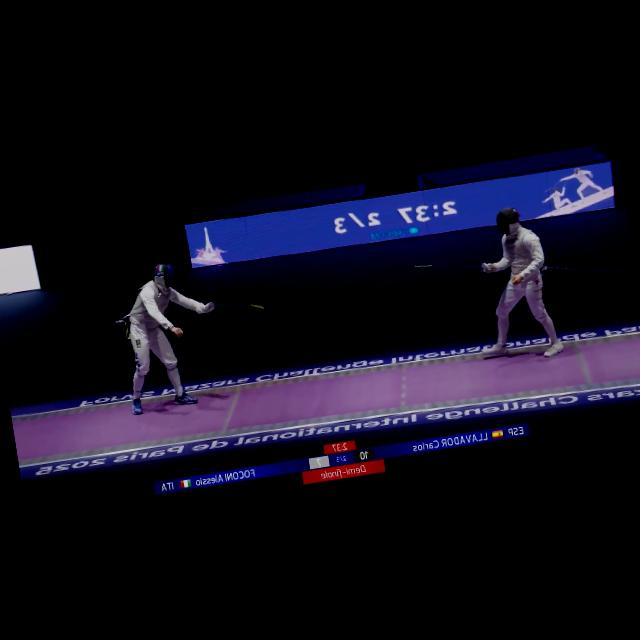blade: (410, 252, 491, 286), (202, 294, 266, 319)
